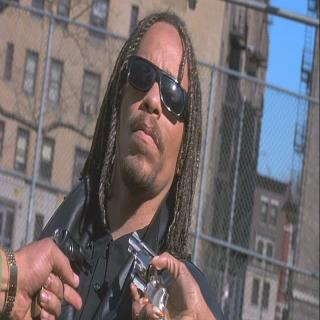gun: (28, 222, 95, 320), (121, 225, 173, 317)
